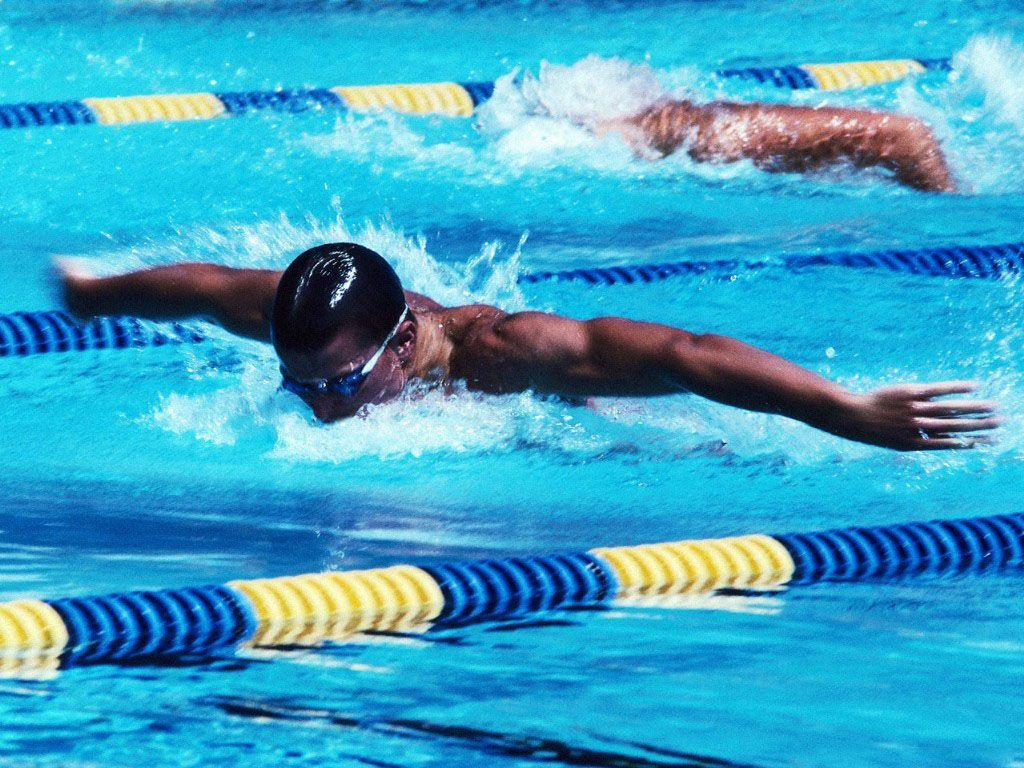face: (282, 330, 386, 436)
